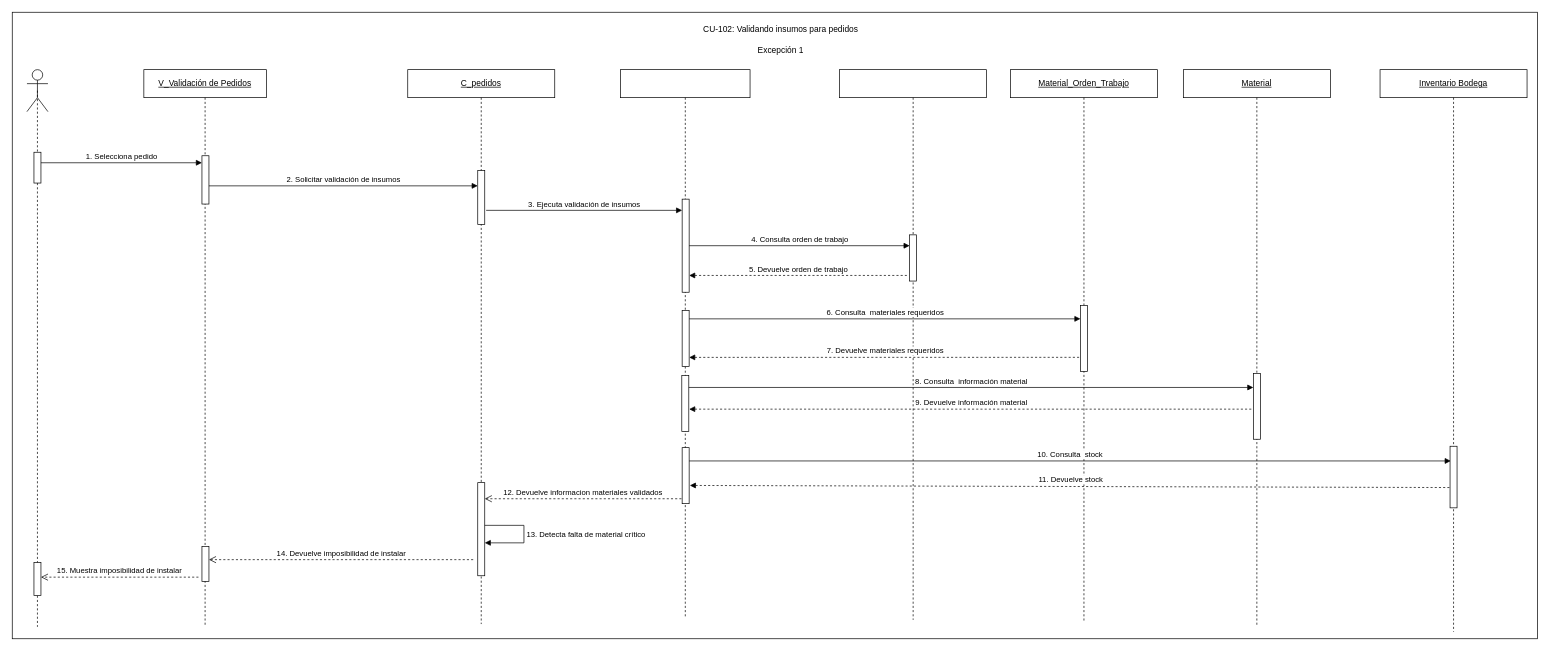
Some shapes in this 1550 by 651 pixel diagram are drawn without their labels. The shapes that lost their labels are listed below. From the top down, each one's box as (x1, y1, x2, y2) in pixels, then its label:
(26, 69, 48, 112): JOP
(620, 69, 750, 618): C_Postgre
(839, 69, 987, 620): Orden_Trabajo
